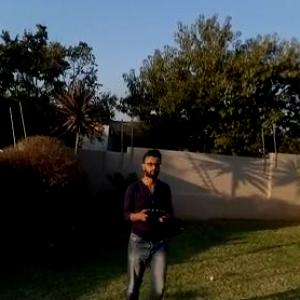follow: (119, 146, 177, 299)
